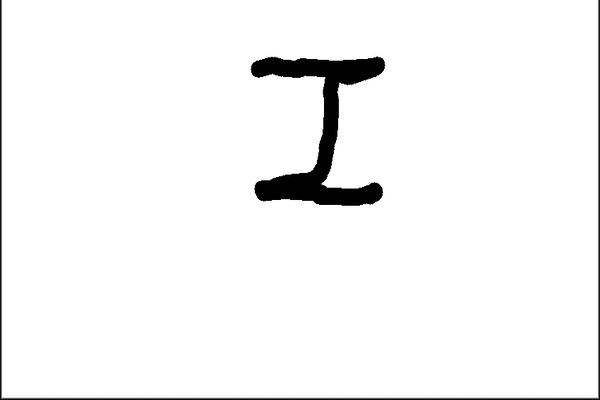i: (229, 40, 389, 216)
